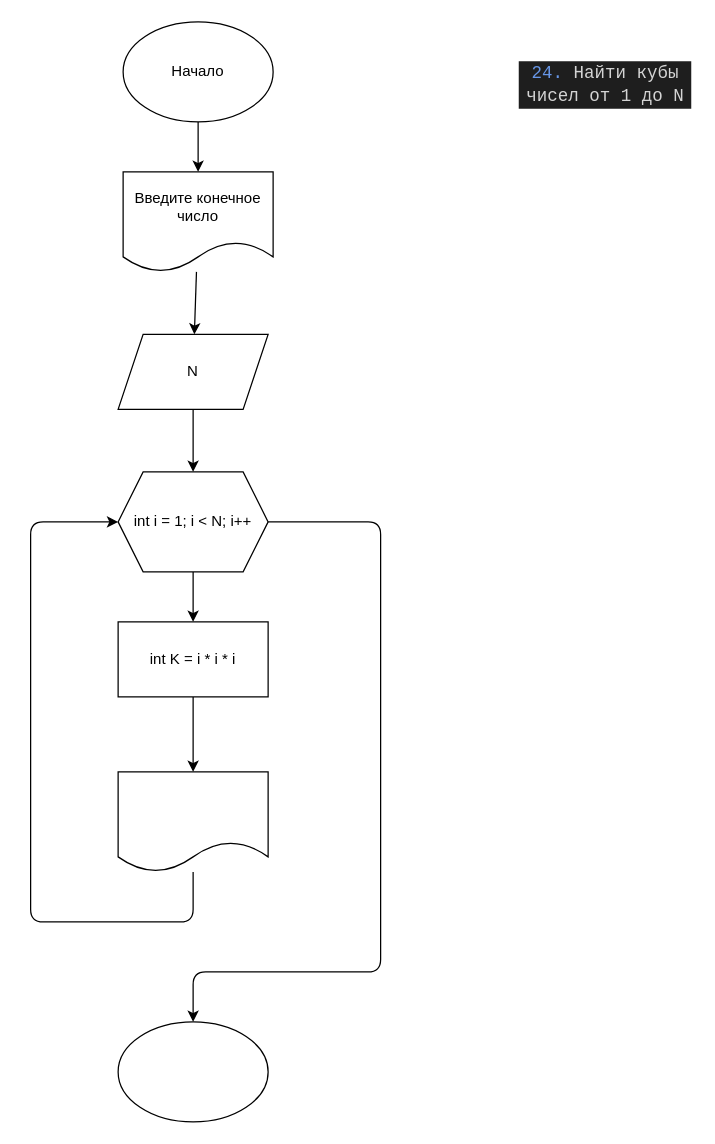
The diagram is 715 pixels wide and 1144 high, and some of its shapes have lost their labels. Each missing label, with the centre of its shape:
"Print K" goes at pixel 192 821.
"Конец" goes at pixel 192 1071.
